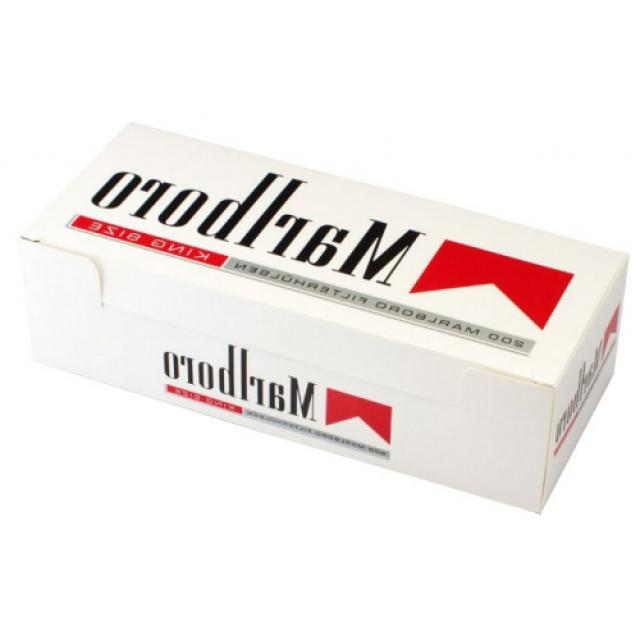marlboro: (41, 148, 622, 500)
